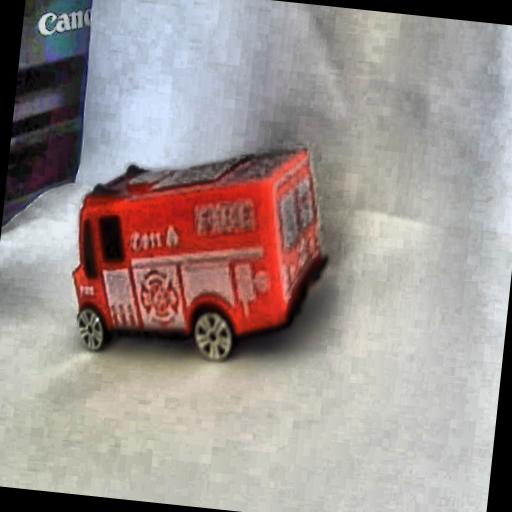fire_truck: (54, 113, 344, 382)
